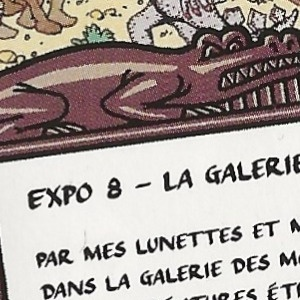Charlie: (120, 94, 180, 206)
